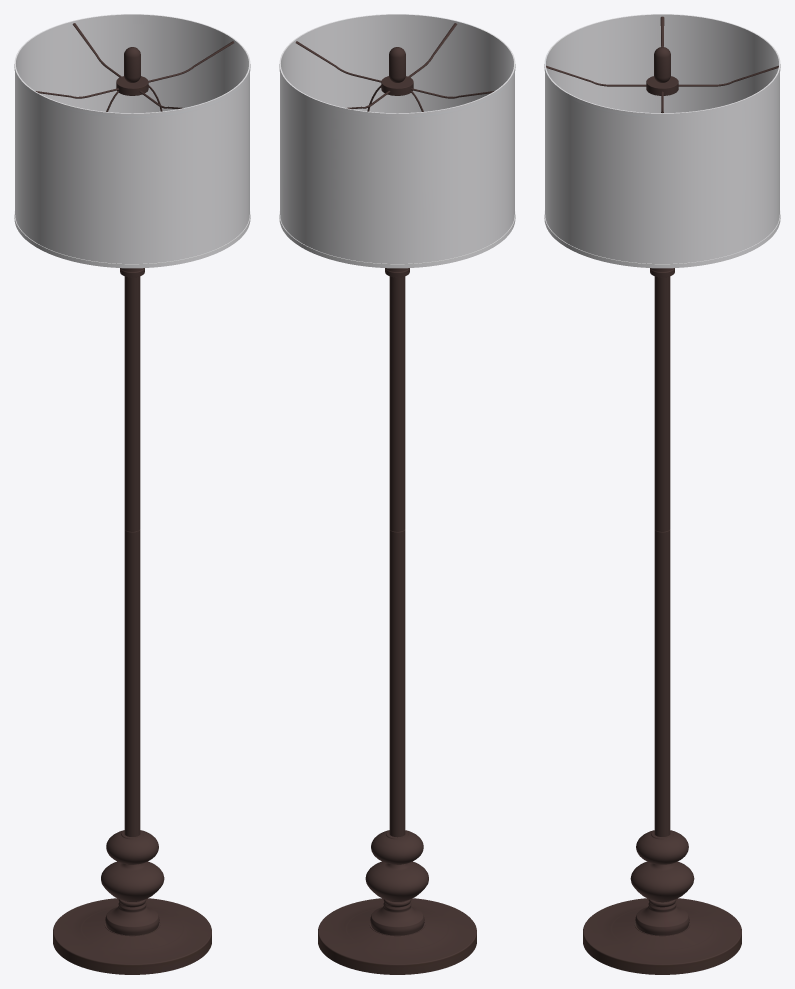
The model's file is abo-B0824FRXW8.glb.
3 views of the same model, side by side, from view 1: azimuth 30°, elevation 25°; view 2: azimuth 150°, elevation 25°; view 3: azimuth 270°, elevation 25° (orthographic).
Bounding box in the file's own units: 0.356 × 1.49 × 0.356.
Materials: 1 (1 with a texture image).
